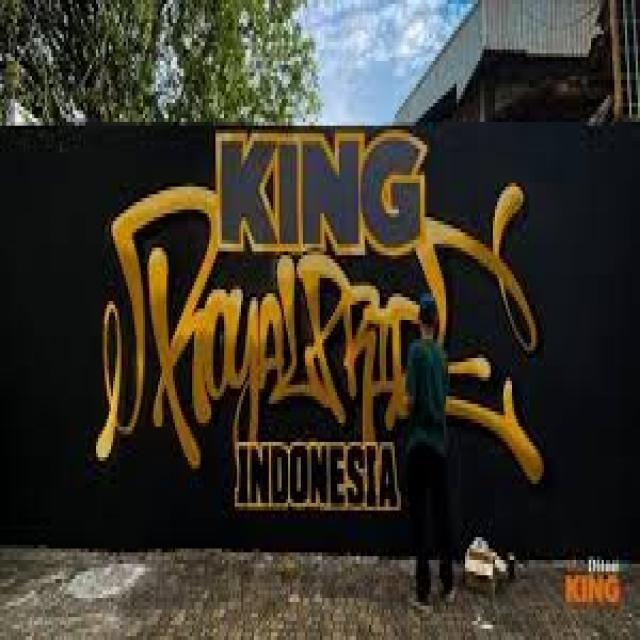-: (94, 125, 543, 510)
